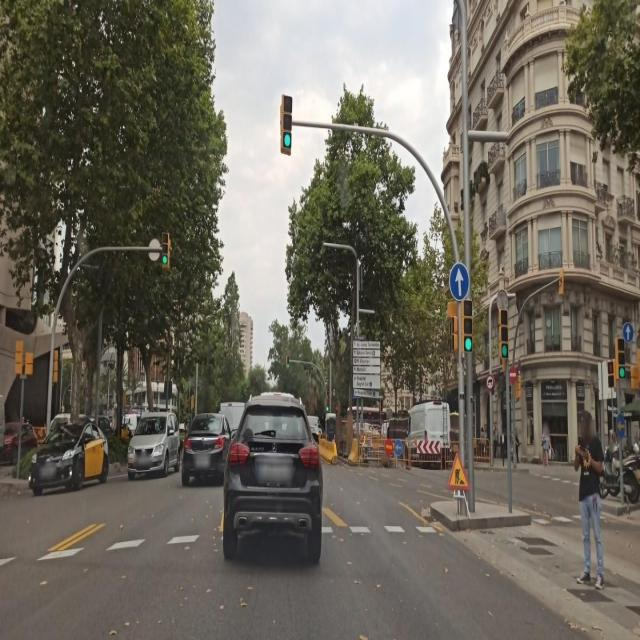car: (221, 390, 323, 565), (28, 416, 110, 496), (181, 411, 232, 488), (126, 412, 180, 480), (0, 420, 38, 464)
